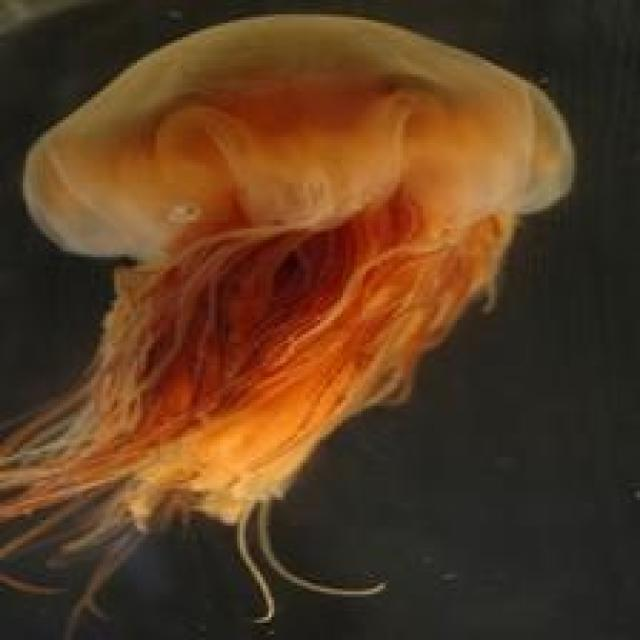Moon-jellyfish: (0, 9, 577, 637)
